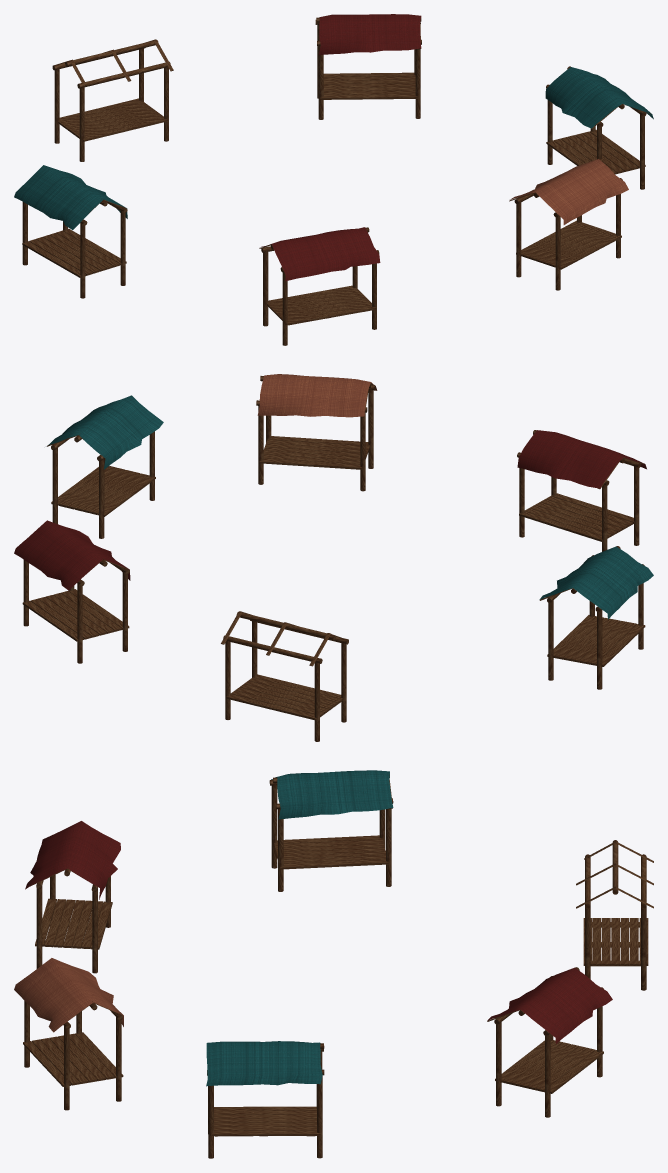
Rendered from medieval_market_stalls.glb.
The picture shows the model from 3 angles, top to bottom: view 1: azimuth 30°, elevation 25°; view 2: azimuth 150°, elevation 25°; view 3: azimuth 270°, elevation 25°; orthographic projection. The views are drawn at different scales.
Visible parts, largest first — view 1: Market Stall low-poly, Market Stall low-poly.004, Market Stall low-poly.008, Market Stall low-poly.006, Market Stall low-poly.005, Market Stall low-poly.003, Market Stall low-poly.001, Market Stall low-poly.010, Market Stall low-poly.011, Market Stall low-poly.009, Market Stall low-poly.002; view 2: Market Stall low-poly, Market Stall low-poly.003, Market Stall low-poly.004, Market Stall low-poly.010, Market Stall low-poly.005, Market Stall low-poly.001, Market Stall low-poly.002, Market Stall low-poly.006, Market Stall low-poly.008, Market Stall low-poly.009, Market Stall low-poly.011; view 3: Market Stall low-poly, Market Stall low-poly.009, Market Stall low-poly.005, Market Stall low-poly.011, Market Stall low-poly.003, Market Stall low-poly.001, Market Stall low-poly.004, Market Stall low-poly.002, Market Stall low-poly.008, Market Stall low-poly.010, Market Stall low-poly.006.
Part boxes in pixels (x1,y1,x2,y2): Market Stall low-poly: [52, 39, 173, 161]; Market Stall low-poly.004: [259, 227, 379, 345]; Market Stall low-poly.008: [318, 14, 421, 54]; Market Stall low-poly.006: [260, 227, 380, 281]; Market Stall low-poly.005: [22, 199, 127, 298]; Market Stall low-poly.003: [509, 158, 622, 290]; Market Stall low-poly.001: [315, 17, 421, 119]; Market Stall low-poly.010: [510, 159, 628, 224]; Market Stall low-poly.011: [14, 165, 127, 229]; Market Stall low-poly.009: [545, 67, 653, 128]; Market Stall low-poly.002: [546, 66, 651, 189]; Market Stall low-poly: [221, 611, 348, 741]; Market Stall low-poly.003: [256, 375, 375, 491]; Market Stall low-poly.004: [517, 430, 644, 551]; Market Stall low-poly.010: [257, 374, 377, 417]; Market Stall low-poly.005: [539, 546, 645, 689]; Market Stall low-poly.001: [22, 541, 129, 663]; Market Stall low-poly.002: [47, 431, 155, 538]; Market Stall low-poly.006: [517, 430, 646, 488]; Market Stall low-poly.008: [14, 520, 130, 590]; Market Stall low-poly.009: [46, 395, 163, 469]; Market Stall low-poly.011: [539, 546, 653, 619]; Market Stall low-poly: [576, 840, 653, 990]; Market Stall low-poly.009: [206, 1041, 322, 1086]; Market Stall low-poly.005: [269, 774, 393, 891]; Market Stall low-poly.011: [271, 770, 393, 819]; Market Stall low-poly.003: [23, 1001, 123, 1110]; Market Stall low-poly.001: [487, 967, 603, 1117]; Market Stall low-poly.004: [30, 868, 112, 973]; Market Stall low-poly.002: [207, 1043, 324, 1158]; Market Stall low-poly.008: [487, 967, 612, 1043]; Market Stall low-poly.010: [14, 958, 123, 1032]; Market Stall low-poly.006: [25, 821, 120, 899].
Size of the model in its own units: 13.3 by 2.1 by 11.74.
4 materials, 4 textured.
